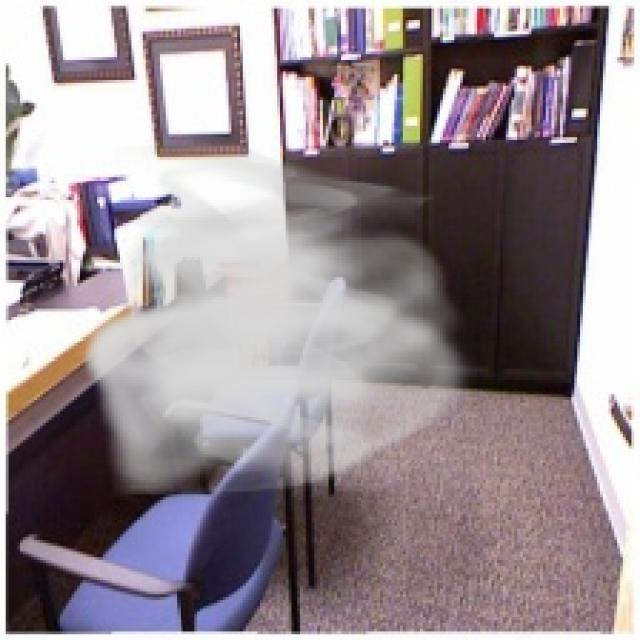smoke: (80, 137, 480, 506)
